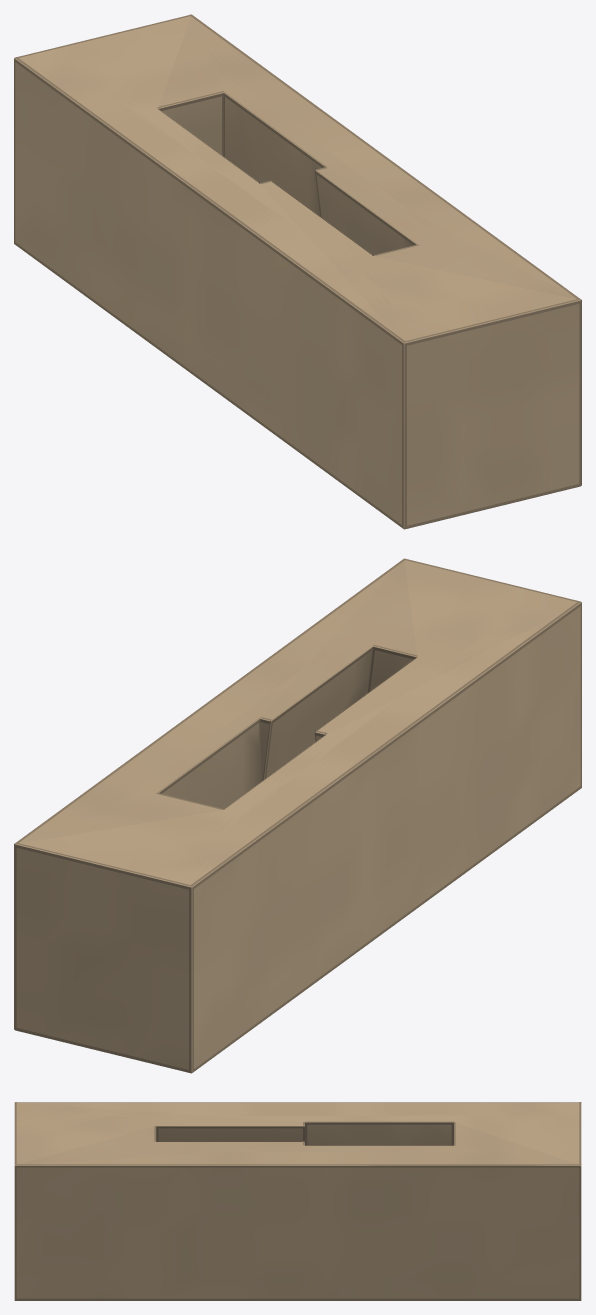
The picture shows the model from 3 angles, top to bottom: view 1: azimuth 30°, elevation 25°; view 2: azimuth 150°, elevation 25°; view 3: azimuth 270°, elevation 25°; orthographic projection. The views are drawn at different scales.
Parts seen in each view (by area): view 1: part-a; view 2: part-a; view 3: part-a.
Boxes of the visible parts, left/top/right/bottom form: part-a: left=14, top=14, right=581, bottom=529; part-a: left=14, top=558, right=581, bottom=1073; part-a: left=14, top=1102, right=581, bottom=1300.
Bounding box in the file's own units: 0.1058 × 0.1069 × 0.4008.
